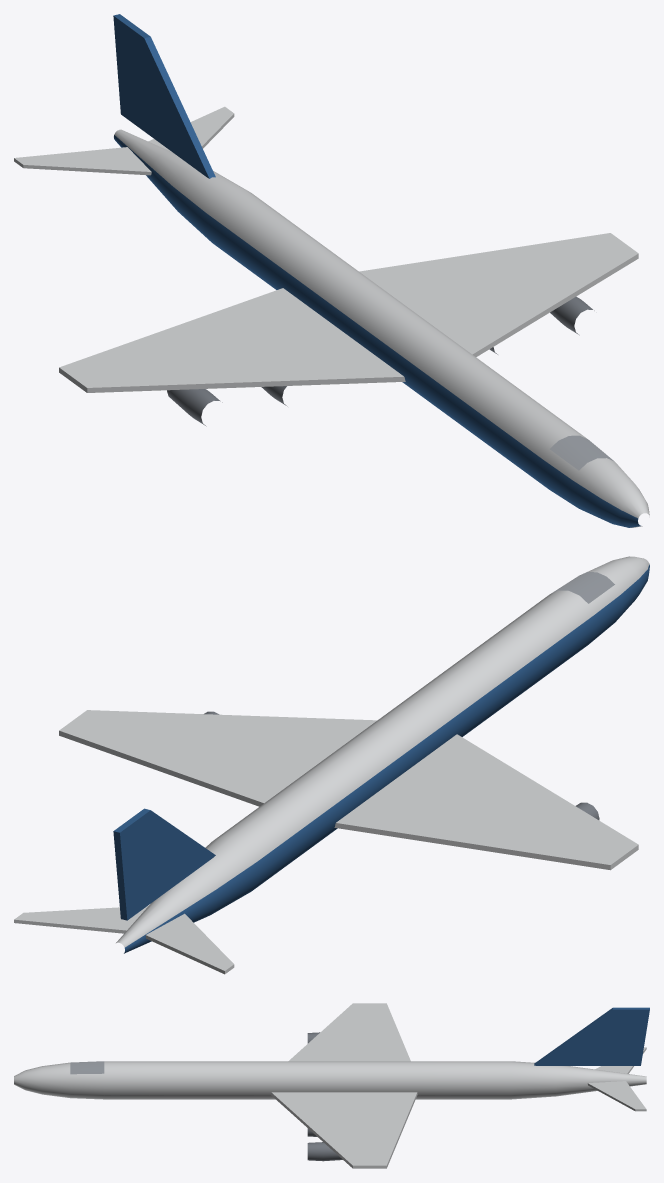
File: desktop.glb
3 views of the same model, one above another, from view 1: azimuth 30°, elevation 25°; view 2: azimuth 150°, elevation 25°; view 3: azimuth 270°, elevation 25° (orthographic). The views are drawn at different scales.
Parts seen in each view (by area): view 1: transit.airliner; view 2: transit.airliner; view 3: transit.airliner.
Part boxes in pixels (x1,y1,x2,y2): transit.airliner: (14, 14, 649, 527); transit.airliner: (14, 556, 649, 974); transit.airliner: (14, 1003, 649, 1168).
Size of the model in its own units: 34 by 9.45 by 56.3.
